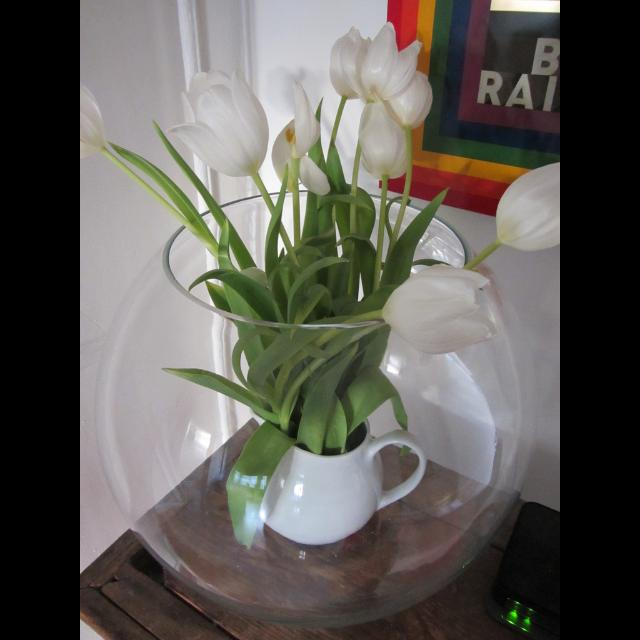Flower: (271, 22, 431, 196), (170, 74, 276, 184), (382, 264, 493, 354), (496, 164, 560, 248), (80, 80, 104, 158)
